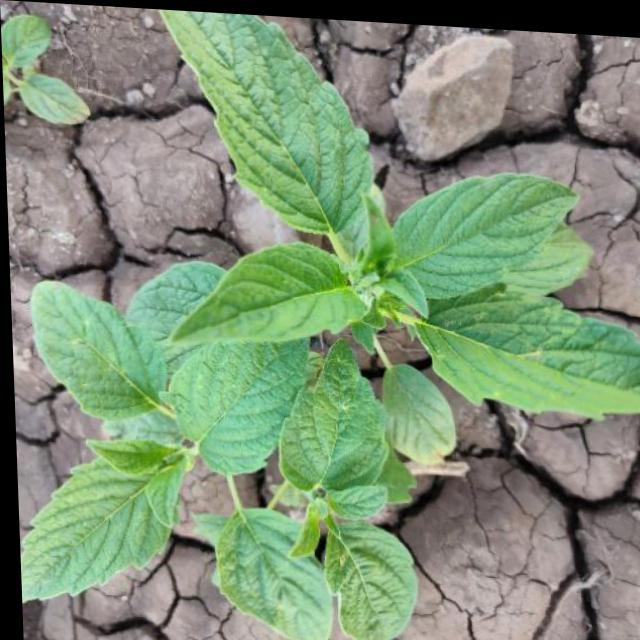crop: (2, 22, 640, 640)
